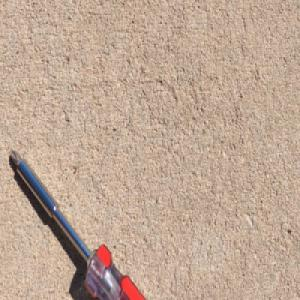Screwdriver: (9, 147, 146, 300)
